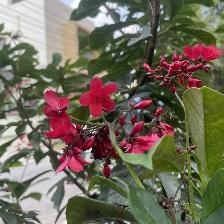jatropha: (82, 78, 119, 120)
